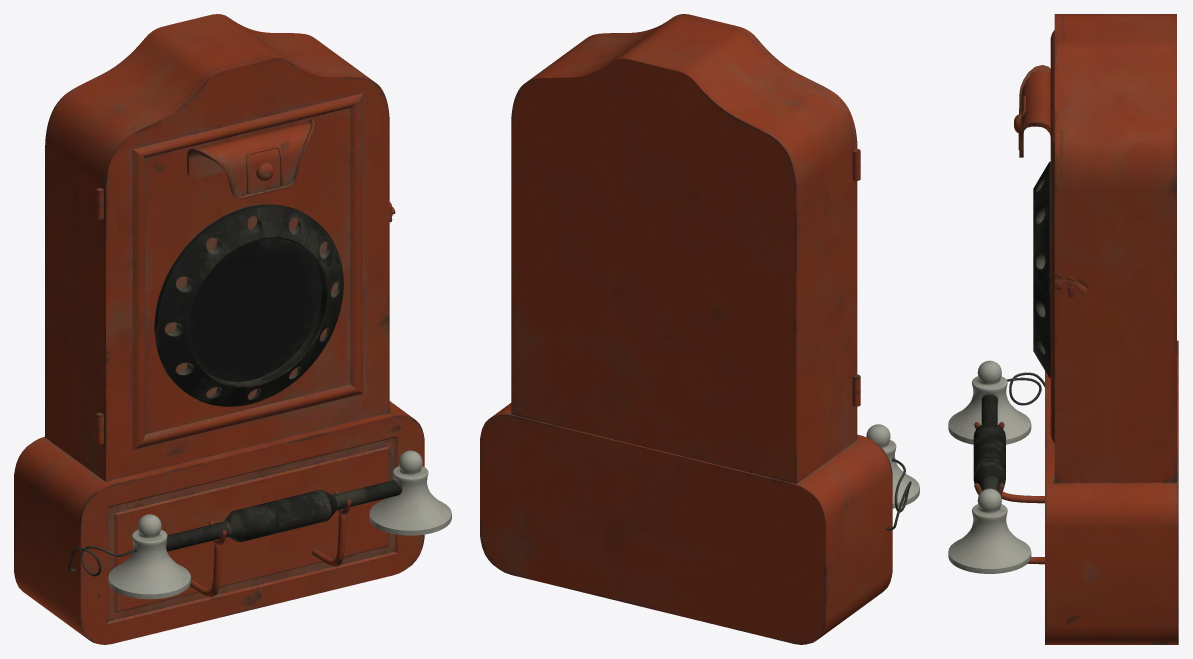
The model's file is vintage_telephone_wall_clock.glb.
3 views of the same model, side by side, from view 1: azimuth 30°, elevation 25°; view 2: azimuth 150°, elevation 25°; view 3: azimuth 270°, elevation 25° (orthographic).
Parts seen in each view (by area): view 1: vintage_telephone_wall_clock; view 2: vintage_telephone_wall_clock; view 3: vintage_telephone_wall_clock.
Part boxes in pixels (x1=…): vintage_telephone_wall_clock: x1=14, y1=14, x2=451, y2=644; vintage_telephone_wall_clock: x1=480, y1=14, x2=919, y2=644; vintage_telephone_wall_clock: x1=948, y1=14, x2=1178, y2=644.
Bounding box in the file's own units: 0.3428 × 0.5012 × 0.1926.
2 materials, 2 textured.
